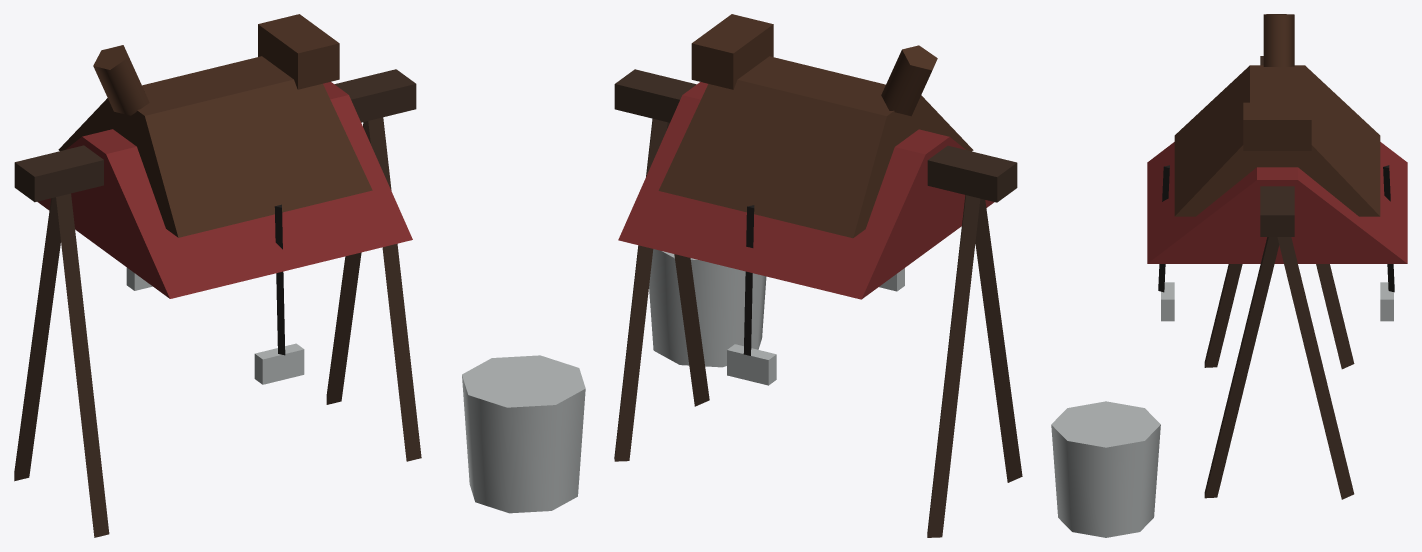
Rendered from saddle_rack.glb.
3 views of the same model, side by side, from view 1: azimuth 30°, elevation 25°; view 2: azimuth 150°, elevation 25°; view 3: azimuth 270°, elevation 25° (orthographic). The views are drawn at different scales.
Parts seen in each view (by area): view 1: saddle_rack; view 2: saddle_rack; view 3: saddle_rack.
Part boxes in pixels (x1,y1,x2,y2): saddle_rack: [14, 14, 585, 537]; saddle_rack: [614, 14, 1022, 537]; saddle_rack: [1051, 14, 1407, 537].
Size of the model in its own units: 1.31 by 1.22 by 1.04.
Materials: 1 (1 with a texture image).
